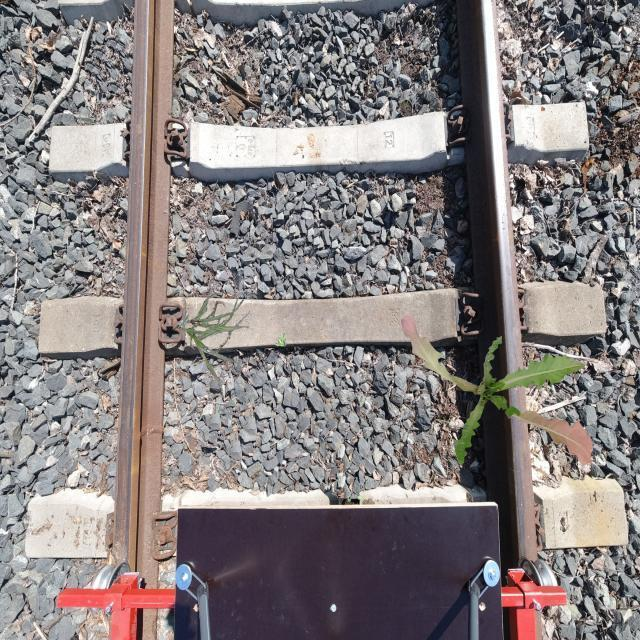Plant: (401, 315, 594, 467), (178, 293, 251, 386), (274, 331, 288, 346)
